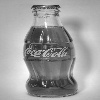beer: (22, 3, 80, 100)
